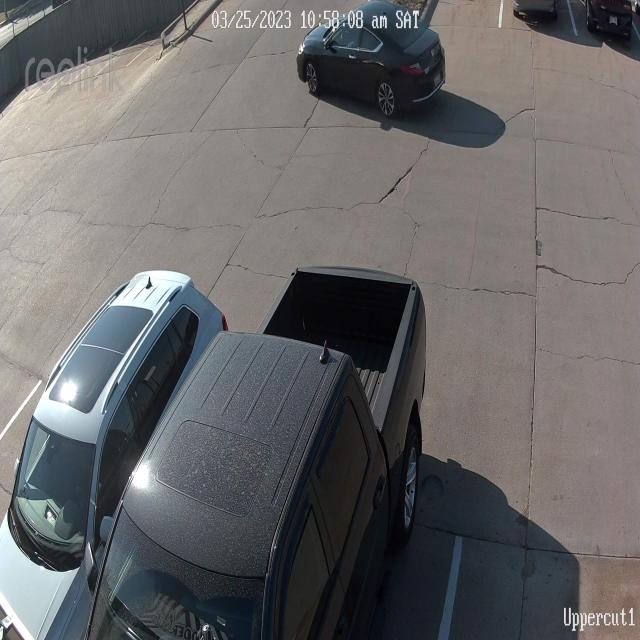Car: (299, 0, 446, 117)
Empty-slot: (444, 465, 634, 640), (0, 296, 49, 433), (402, 0, 502, 40), (495, 0, 576, 44)
Slot-Occupied: (92, 271, 424, 640), (5, 271, 226, 640), (584, 0, 638, 52)
